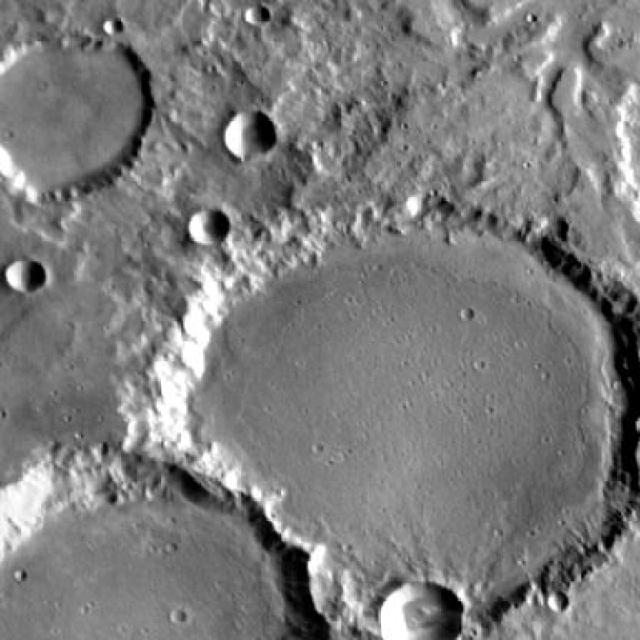crater: (144, 203, 640, 640), (0, 458, 318, 639), (0, 36, 149, 204), (372, 586, 456, 640), (222, 111, 280, 160), (182, 215, 226, 253), (1, 255, 42, 292), (245, 2, 266, 20), (166, 612, 185, 630), (543, 604, 562, 621)
